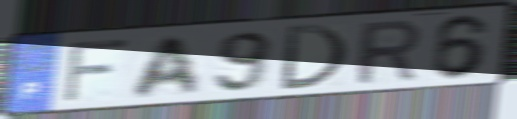6: (431, 12, 490, 83)
9: (212, 30, 275, 93)
A: (128, 33, 204, 101)
D: (275, 23, 351, 92)
F: (60, 36, 133, 105)
R: (354, 17, 424, 87)
